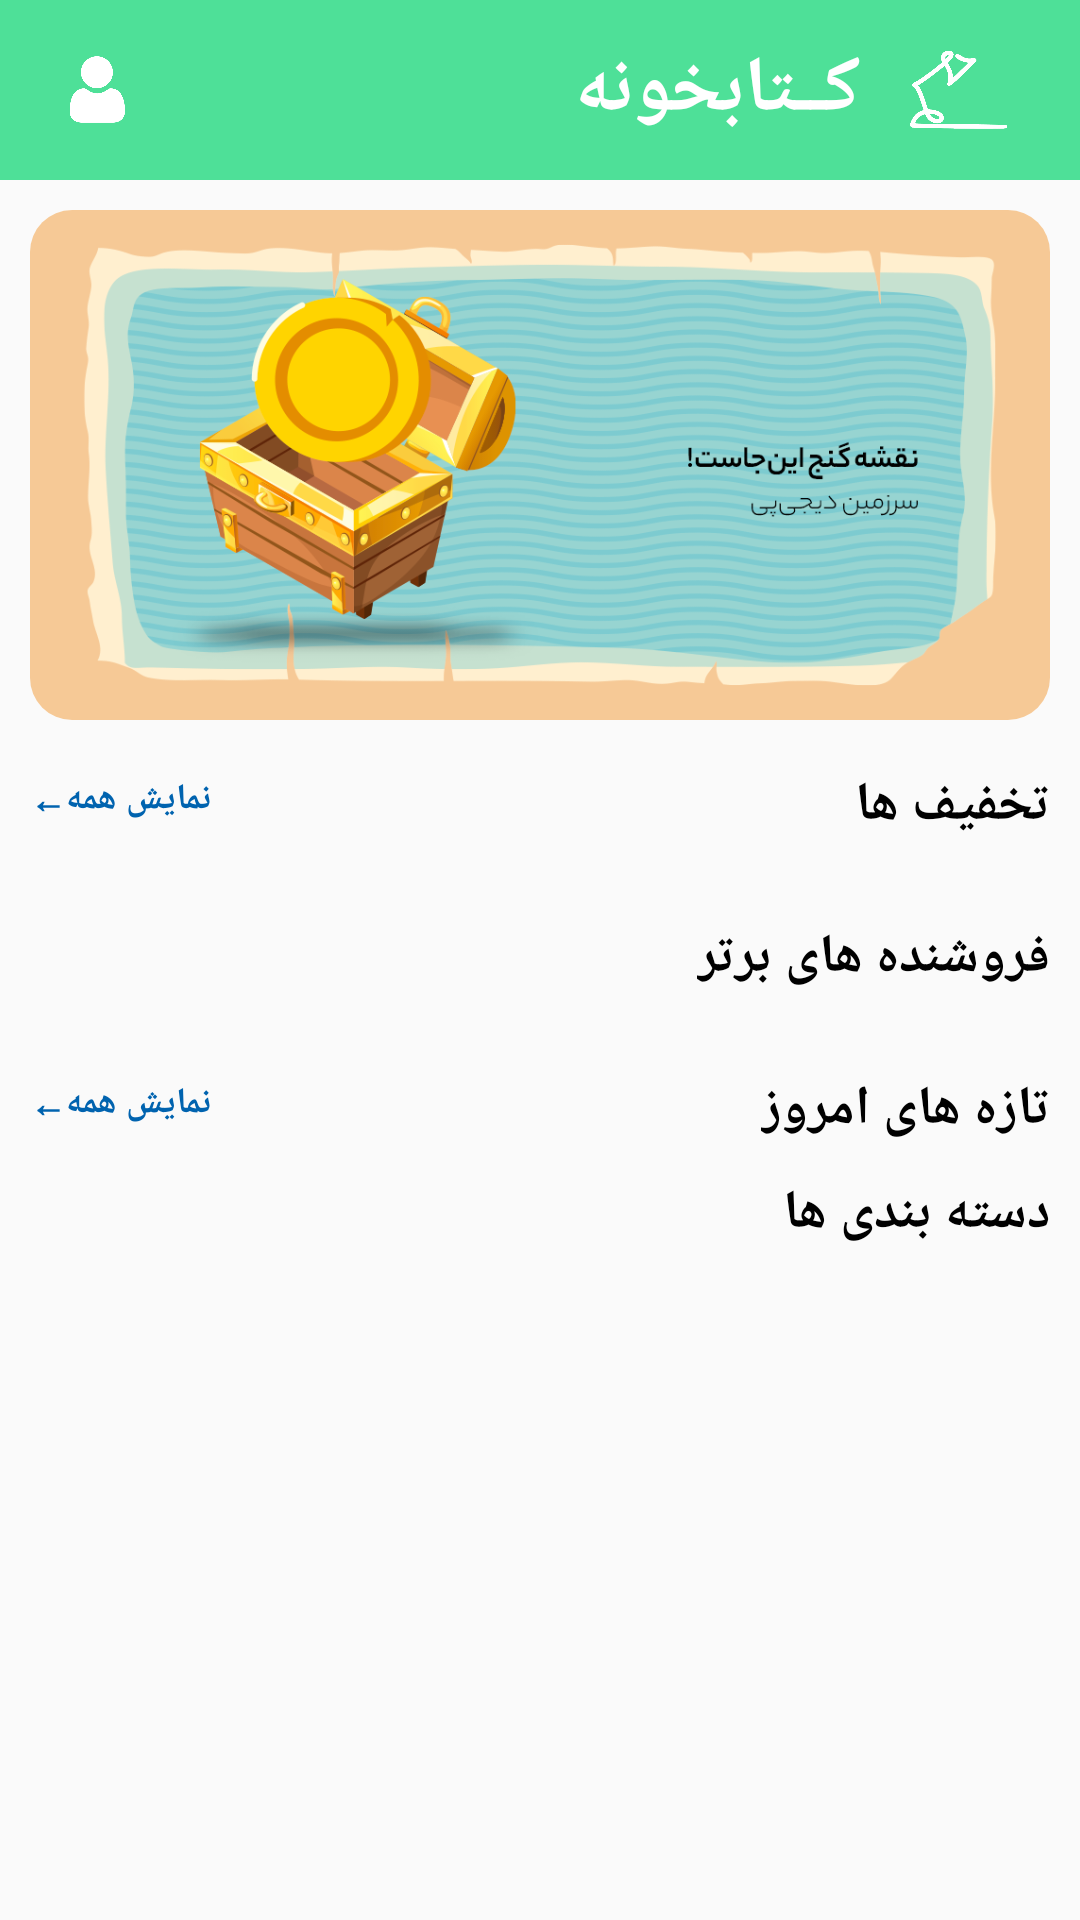

Icons on this 1080w x 1920h Android screen, each with the point to tap as (x,y):
user: (97,89)
